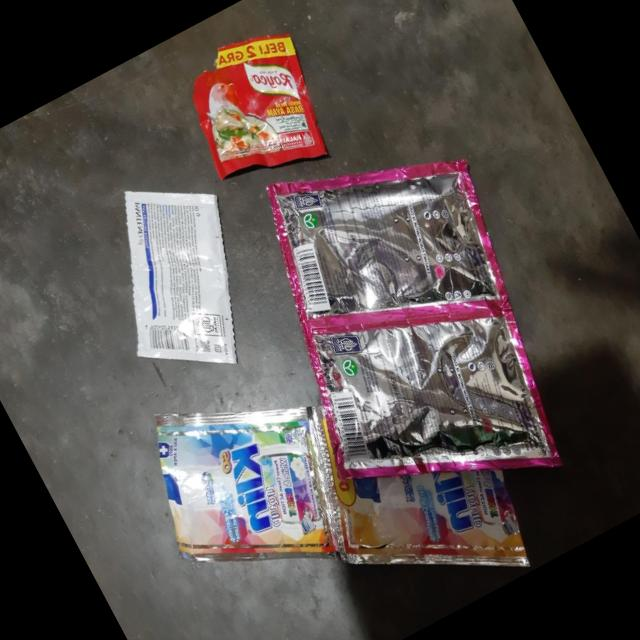KemasanPlastik: (205, 97, 612, 552), (110, 279, 547, 640), (57, 144, 291, 408), (160, 12, 346, 205)
